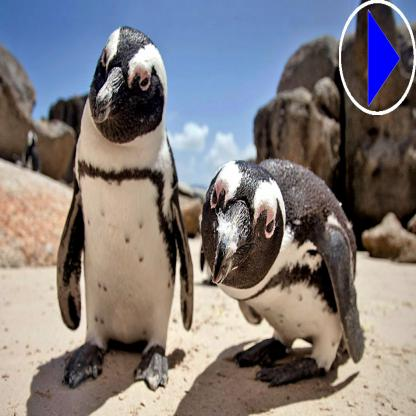Penguin: (51, 19, 198, 398), (198, 149, 373, 387)
